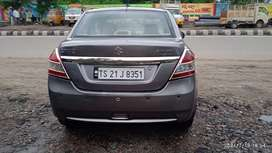TS21J8351: (94, 67, 144, 79)
